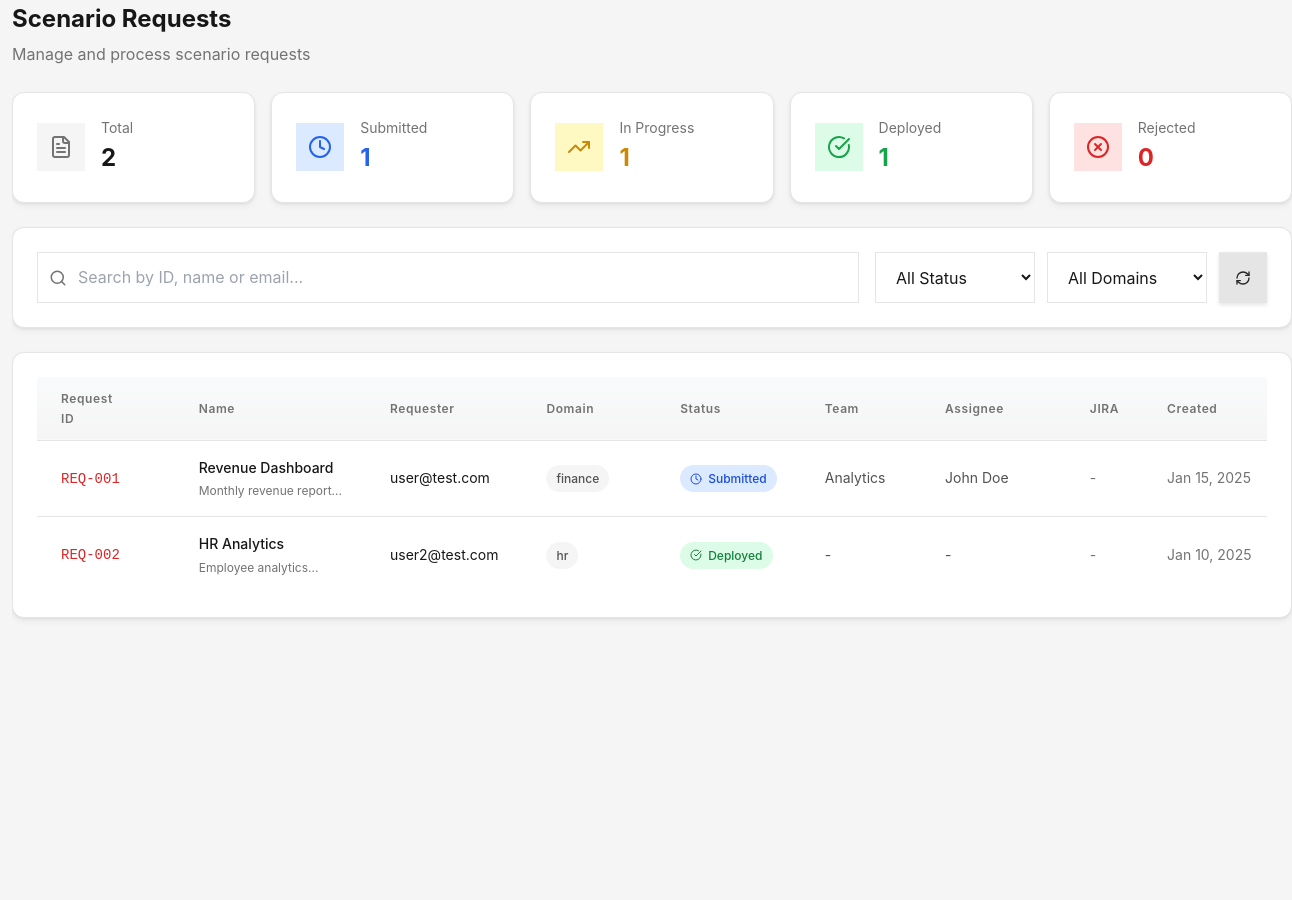
Scenario: ScenarioRequestsManagement › filters by domain
This screenshot has width=1292, height=900.
Expected: the text "Revenue Dashboard" is shown, [199, 457, 342, 479]
Step 1. Select "HR" in the 2nd dropdown showing "All Domains" → (1127, 278), box [1047, 252, 1207, 303]
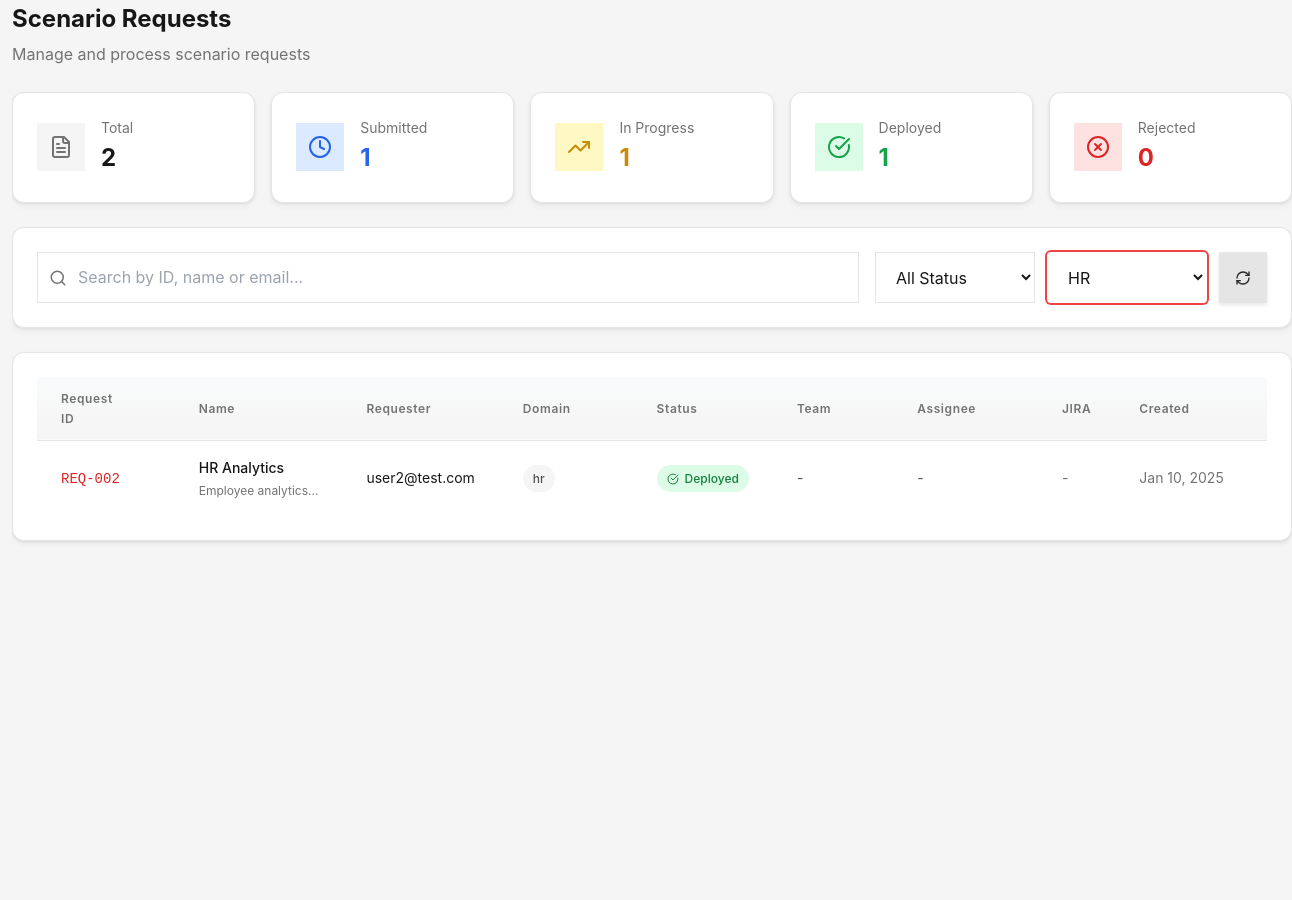
Expected: the text "HR Analytics" is shown, [199, 459, 284, 476]
Expected: the text "Revenue Dashboard" is gone
